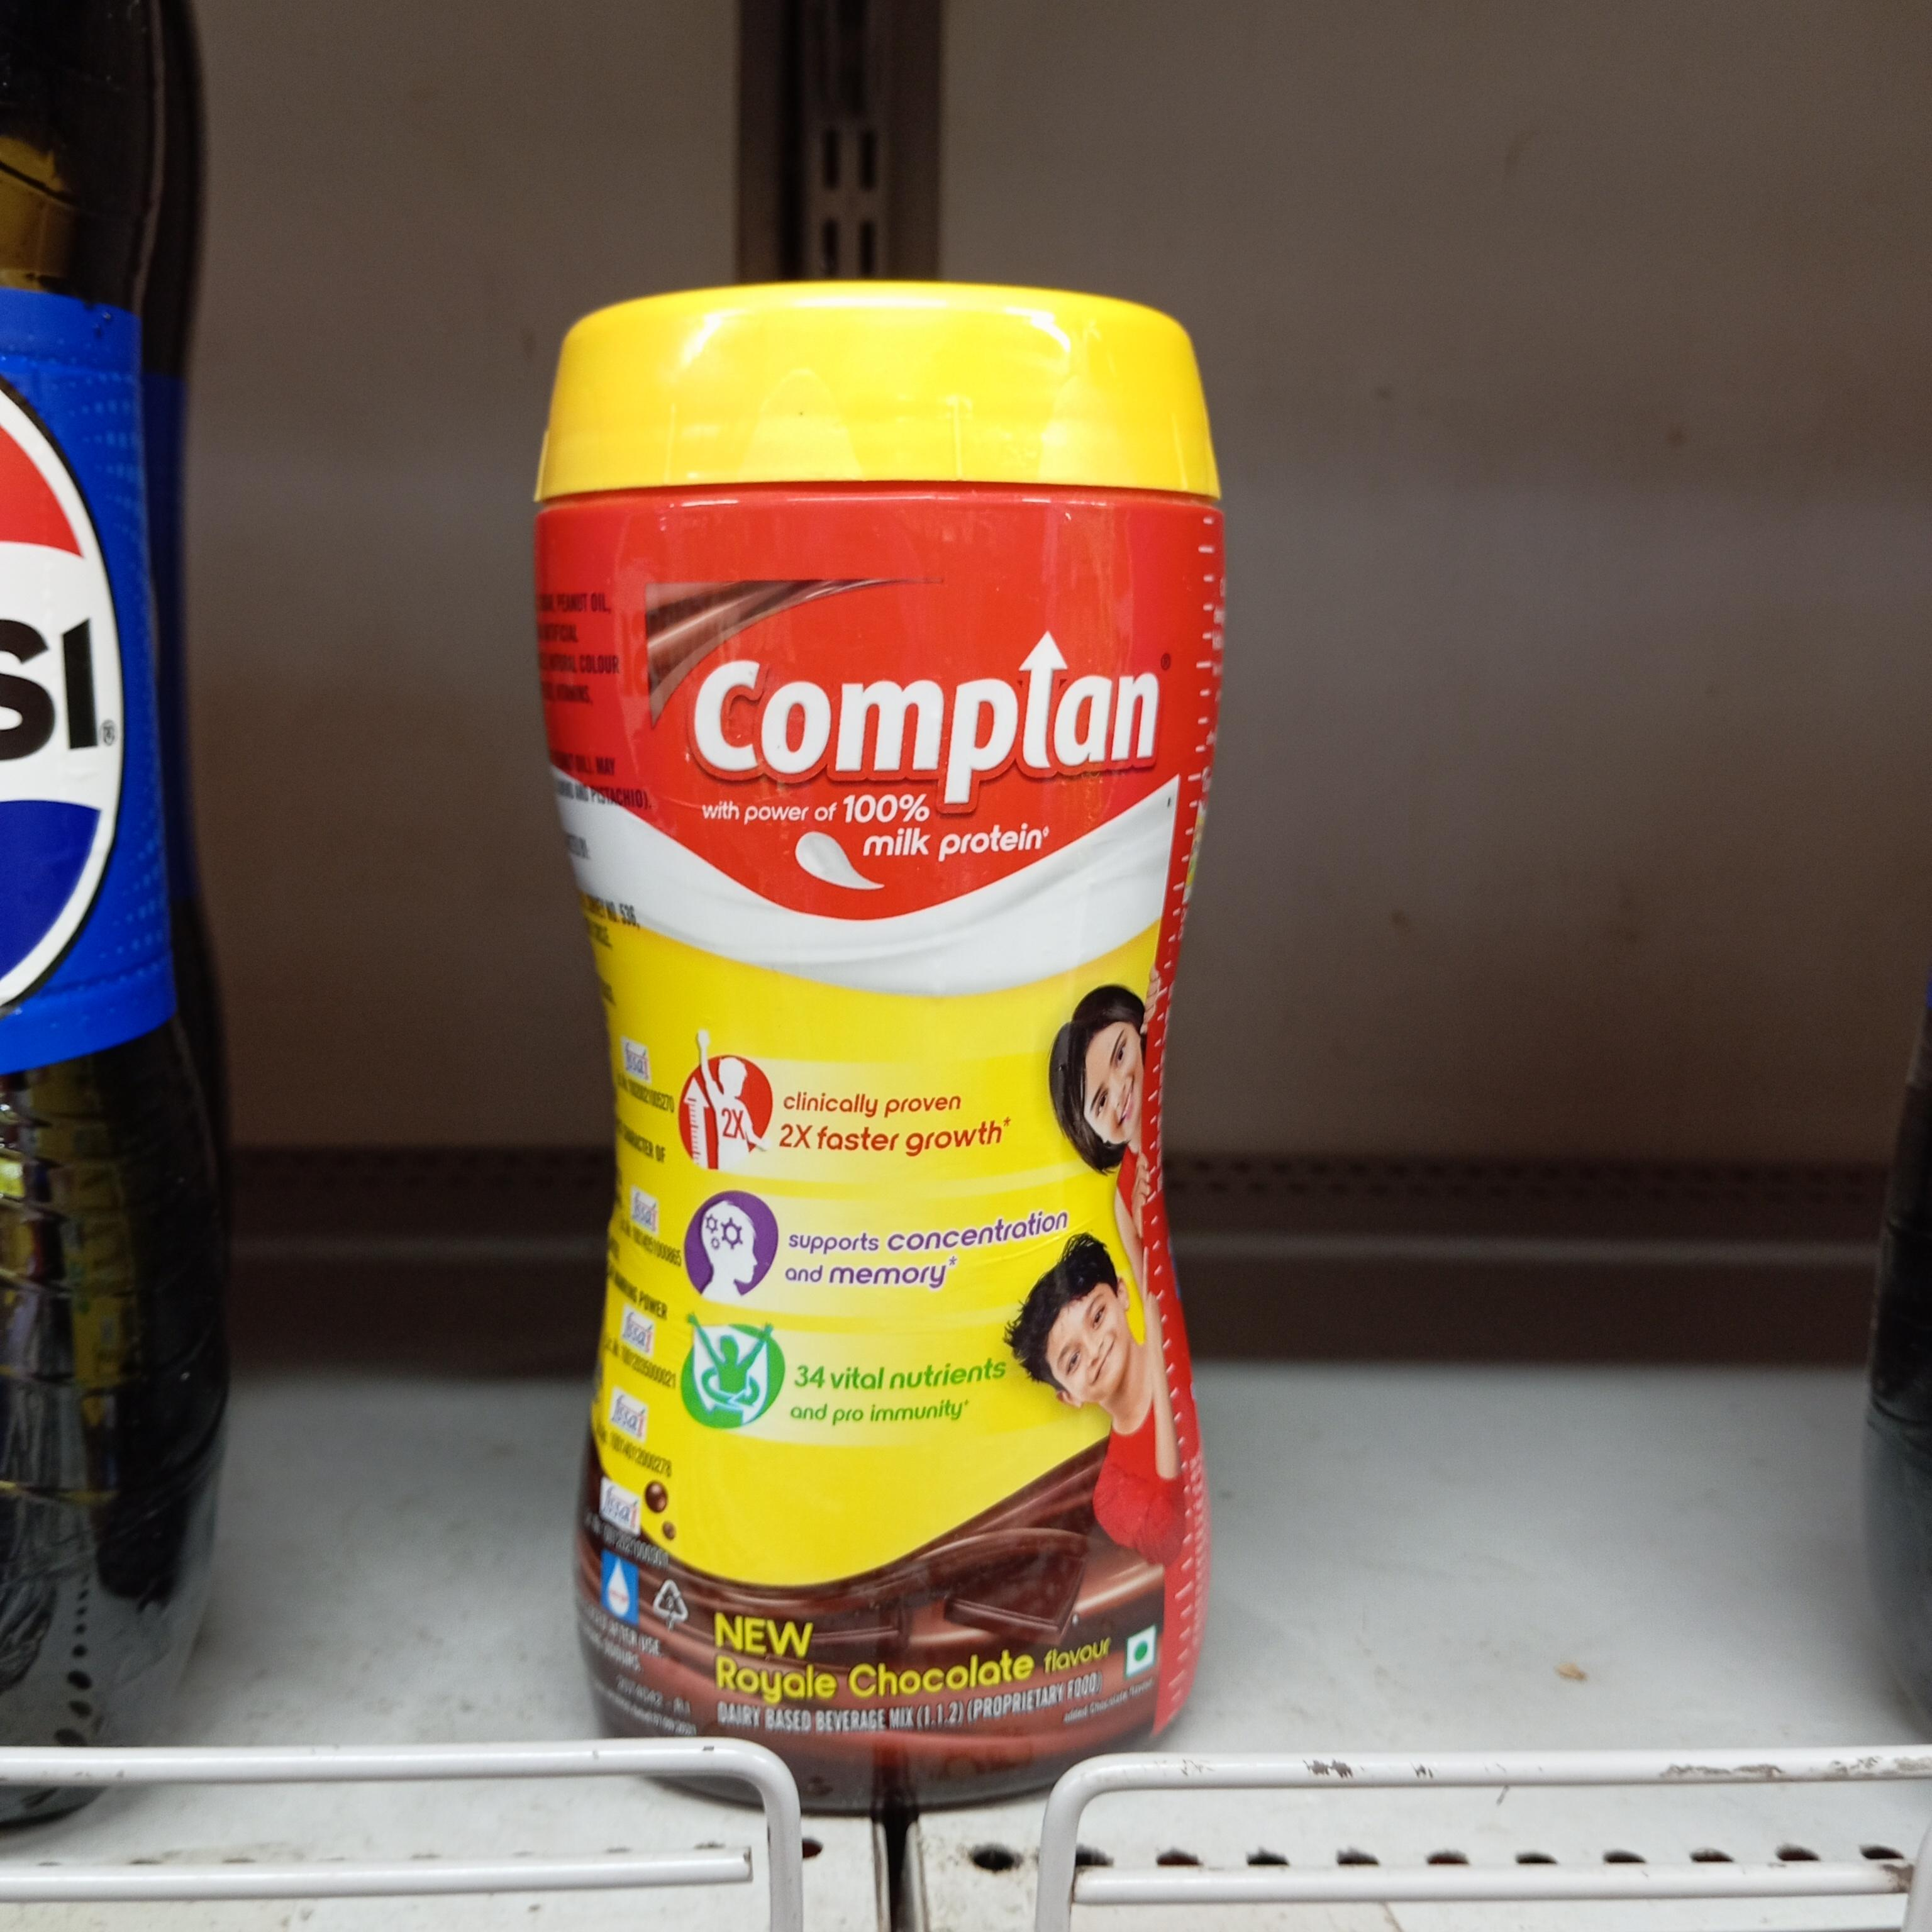COMPLAN_CHOCOLATE_500_GMS_JAR: (540, 287, 1221, 1798)
